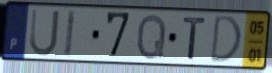7: (106, 10, 132, 61)
D: (208, 13, 244, 65)
I: (62, 8, 78, 59)
Q: (135, 12, 168, 62)
T: (182, 16, 208, 62)
U: (28, 8, 62, 59)
